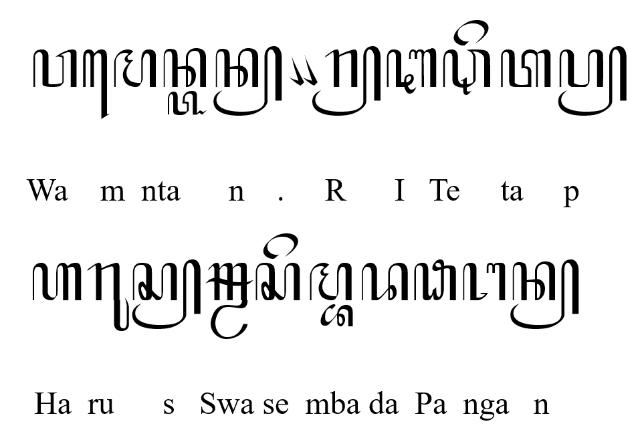-n: (213, 45, 283, 117), (510, 258, 580, 330)
-r: (313, 46, 382, 116)
-s: (132, 258, 202, 330)
I: (386, 48, 438, 94)
P: (414, 259, 456, 301)
Sw: (205, 262, 253, 340)
T: (442, 48, 492, 96)
_b: (319, 304, 353, 326)
_t: (167, 90, 207, 116)
d: (361, 262, 409, 302)
e: (263, 232, 299, 260), (453, 19, 489, 45)
e1: (82, 48, 110, 120)
h: (32, 261, 84, 301)
kom: (288, 54, 304, 86), (301, 54, 317, 86)
m: (113, 48, 157, 88), (309, 262, 353, 302)
n: (163, 47, 207, 87)
nga: (462, 262, 506, 300)
ru: (87, 262, 129, 332)
s: (256, 262, 300, 302)
t: (558, 44, 628, 116), (501, 48, 552, 88)
w: (32, 48, 78, 88)
